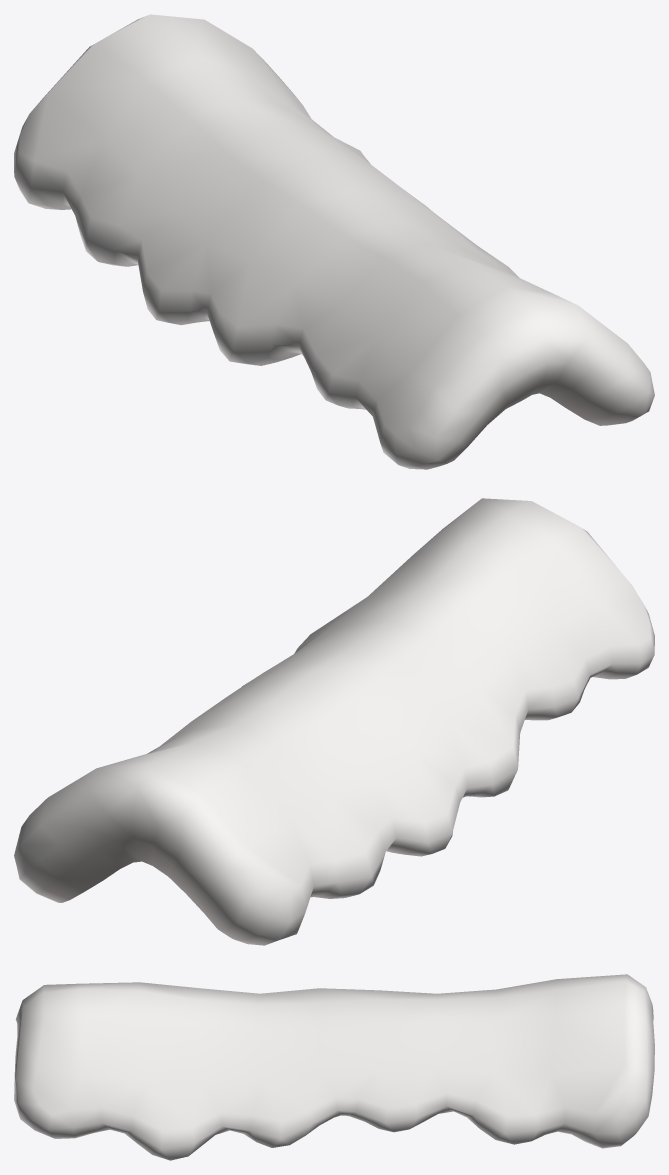
The model's file is Roof_snow_001.glb.
3 views of the same model, one above another, from view 1: azimuth 30°, elevation 25°; view 2: azimuth 150°, elevation 25°; view 3: azimuth 270°, elevation 25° (orthographic). The views are drawn at different scales.
Visible parts, largest first — view 1: Roof_snow_001; view 2: Roof_snow_001; view 3: Roof_snow_001.
Boxes of the visible parts, left/top/right/bottom form: Roof_snow_001: left=14, top=14, right=654, bottom=469; Roof_snow_001: left=14, top=498, right=654, bottom=945; Roof_snow_001: left=14, top=974, right=654, bottom=1160.
Bounding box in the file's own units: 2.79 × 1.53 × 6.88.
Materials: 1 (1 with a texture image).
